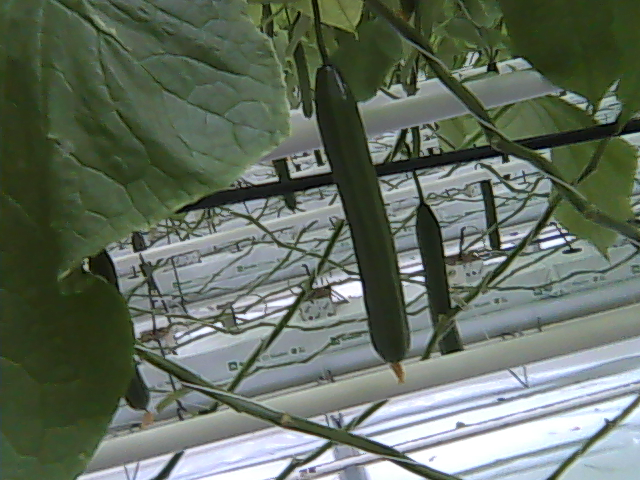concombre: (313, 52, 410, 384)
